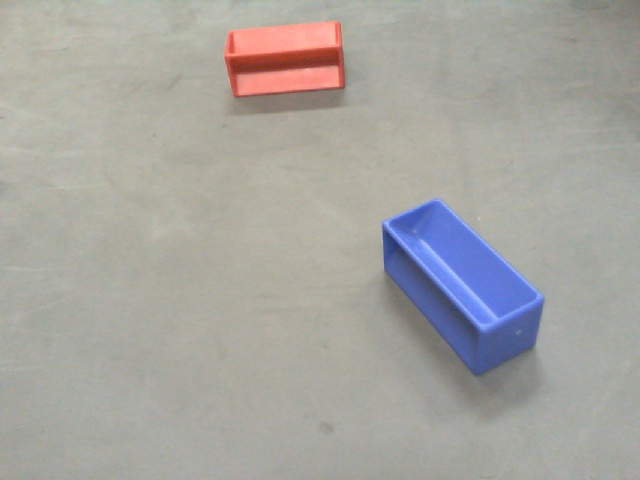BlueSample: (379, 197, 547, 377)
RedSample: (222, 19, 349, 102)
